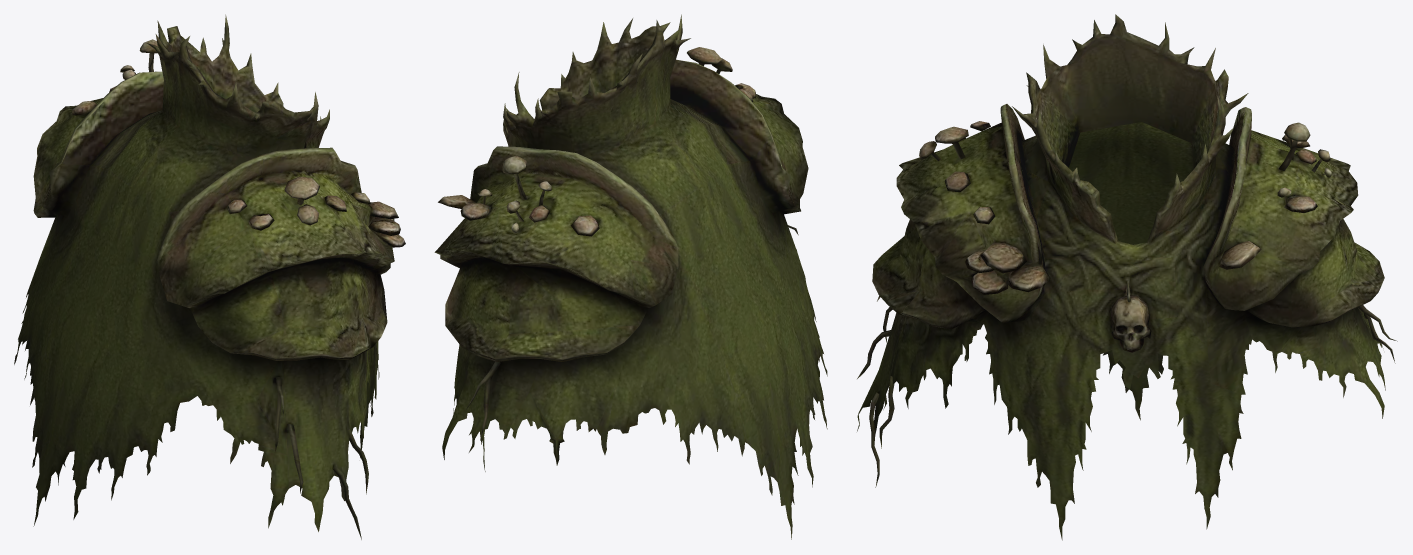
Rendered from necro_mantle_rotweaver.glb.
3 views of the same model, side by side, from view 1: azimuth 30°, elevation 25°; view 2: azimuth 150°, elevation 25°; view 3: azimuth 270°, elevation 25° (orthographic). The views are drawn at different scales.
Parts seen in each view (by area): view 1: tripo_node_be5644ea-1ff7-4b01-9190-193abf85264e; view 2: tripo_node_be5644ea-1ff7-4b01-9190-193abf85264e; view 3: tripo_node_be5644ea-1ff7-4b01-9190-193abf85264e.
Boxes of the visible parts, <box> form: tripo_node_be5644ea-1ff7-4b01-9190-193abf85264e: <box>14,14,405,539</box>; tripo_node_be5644ea-1ff7-4b01-9190-193abf85264e: <box>434,14,827,539</box>; tripo_node_be5644ea-1ff7-4b01-9190-193abf85264e: <box>857,14,1397,540</box>.
Bounding box in the file's own units: 0.6777 × 0.9747 × 0.998.
1 material, 1 textured.
